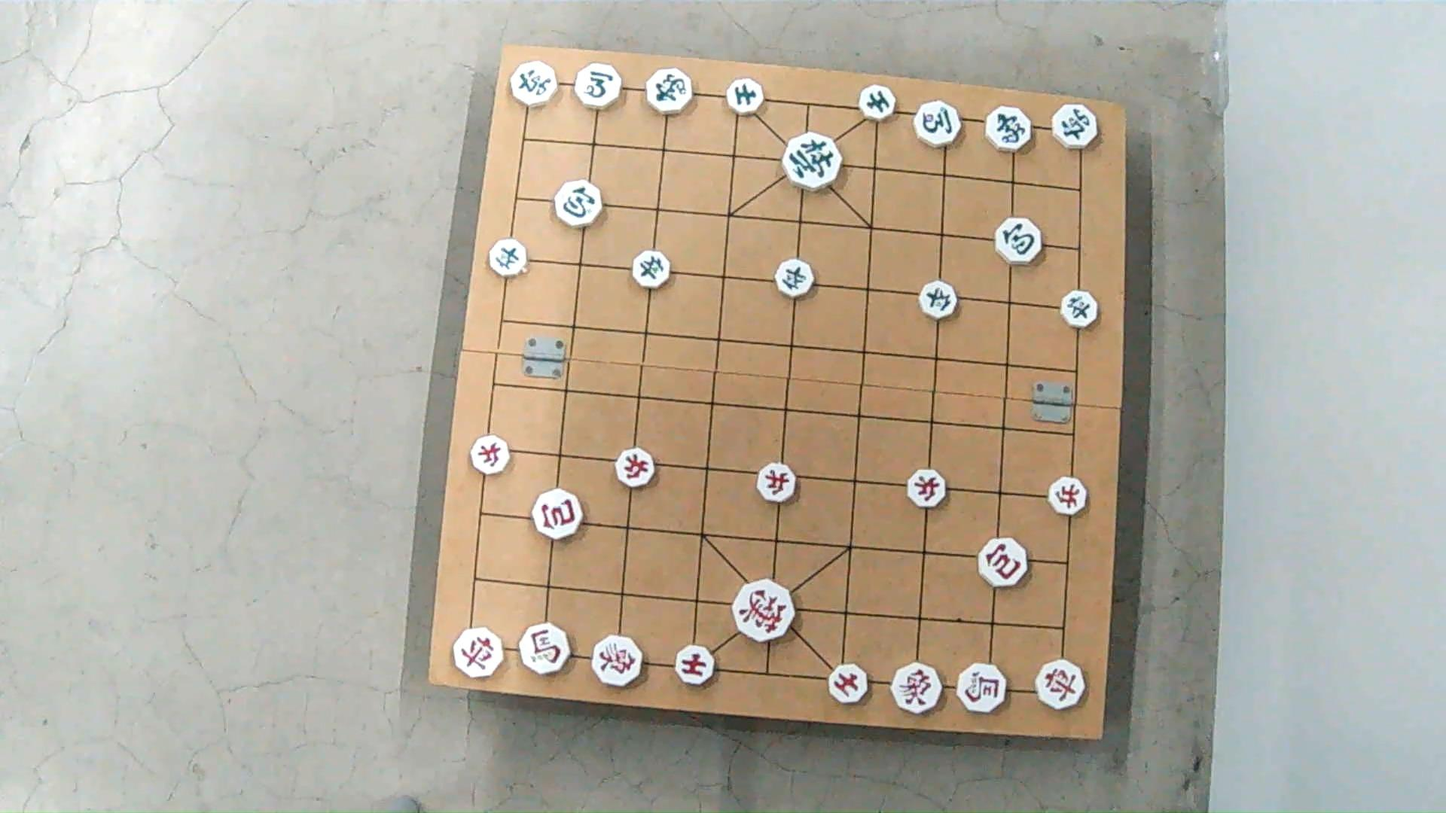cha_green: (510, 60, 560, 110), (1050, 105, 1099, 149)
cha_red: (1035, 657, 1088, 712), (453, 626, 505, 681)
jol_green: (630, 251, 671, 288), (487, 241, 529, 277), (776, 260, 816, 297), (920, 284, 961, 320), (1058, 292, 1097, 328)
jol_red: (468, 437, 511, 475), (905, 471, 947, 509), (758, 466, 799, 504), (616, 449, 657, 487), (1045, 479, 1086, 516)
ma_green: (915, 102, 963, 148), (572, 65, 622, 108)
ma_red: (520, 626, 571, 676), (956, 663, 1008, 711)
po_green: (554, 183, 604, 228), (997, 218, 1046, 262)
po_red: (532, 492, 584, 540), (980, 538, 1031, 586)
sa_green: (725, 79, 764, 113), (859, 86, 898, 120)
sa_red: (828, 663, 871, 705), (675, 644, 713, 684)
sang_green: (985, 107, 1035, 154), (644, 71, 693, 114)
sang_red: (889, 662, 946, 715), (593, 638, 646, 687)
wang_green: (782, 136, 843, 189)
wang_red: (732, 583, 793, 641)
